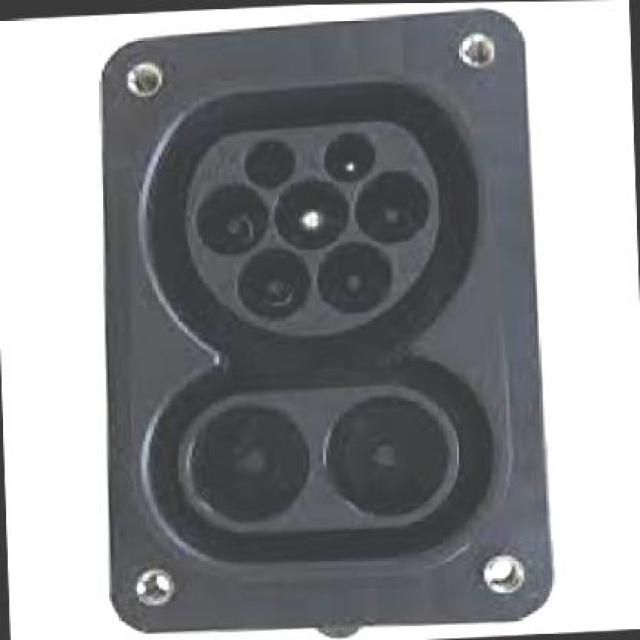CCS2: (134, 63, 494, 613)
